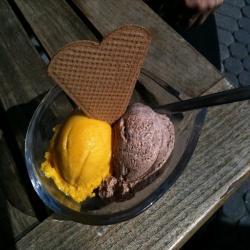icecream: (39, 97, 184, 212)
